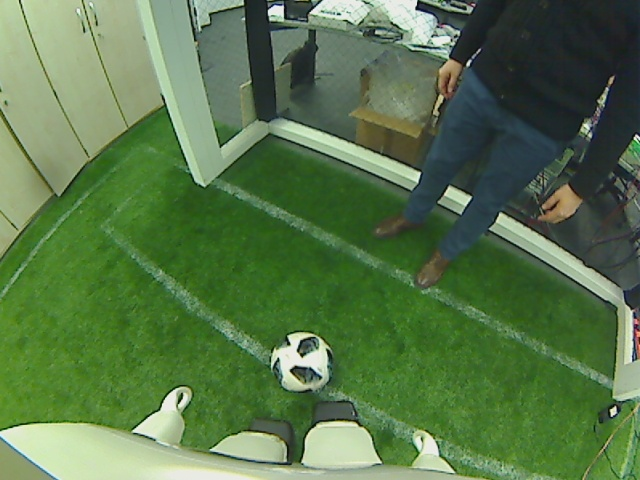ball: (268, 329, 332, 393)
